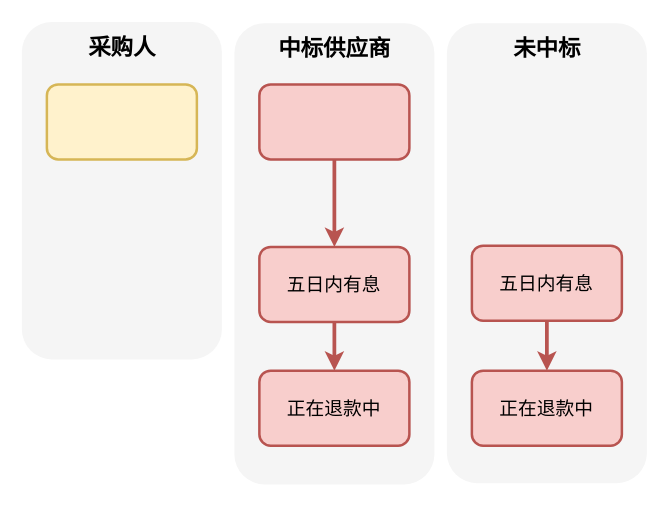
Some shapes in this 668 by 505 pixel diagram are drawn without their labels. The centre of each missing label's shape, as x and y in pixels:
同意退款: the point at 121,121
支付服务费: the point at 334,121
